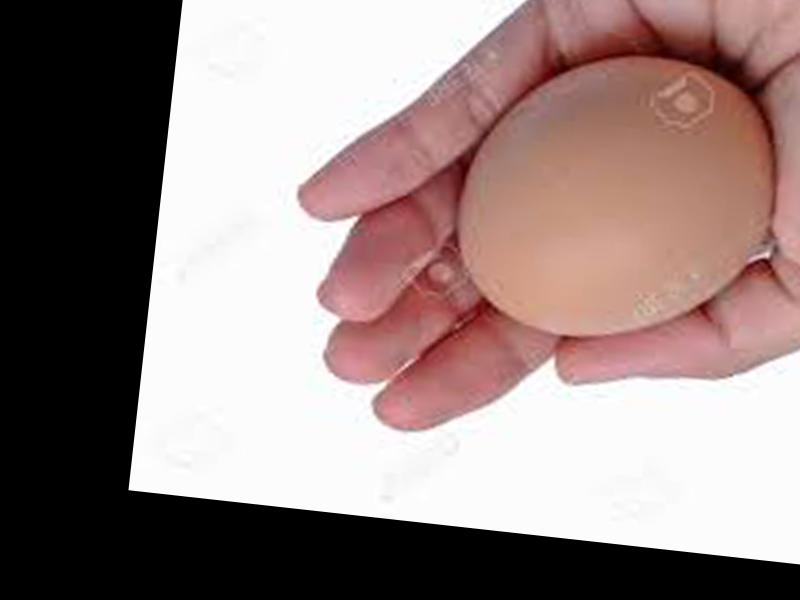Eggs: (445, 40, 789, 356)
